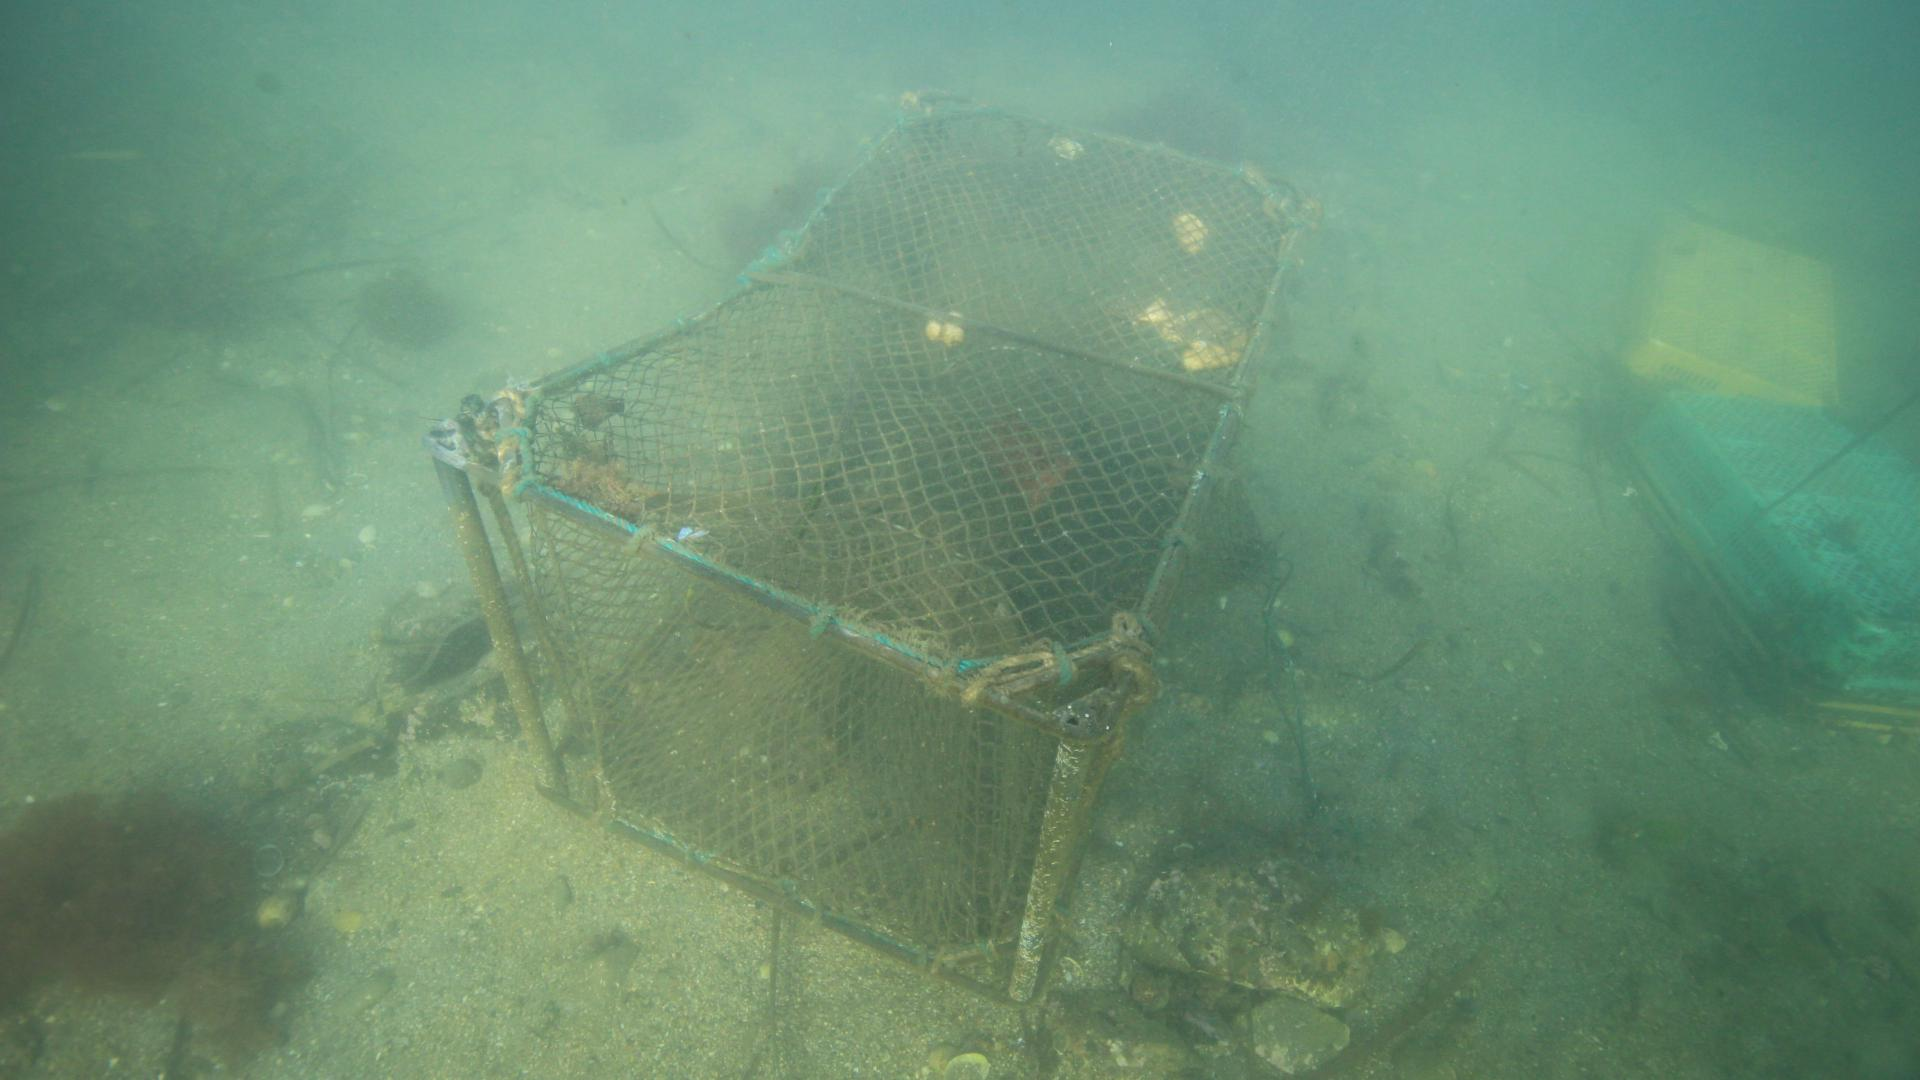rectangular fish trap: (422, 84, 1319, 1009)
